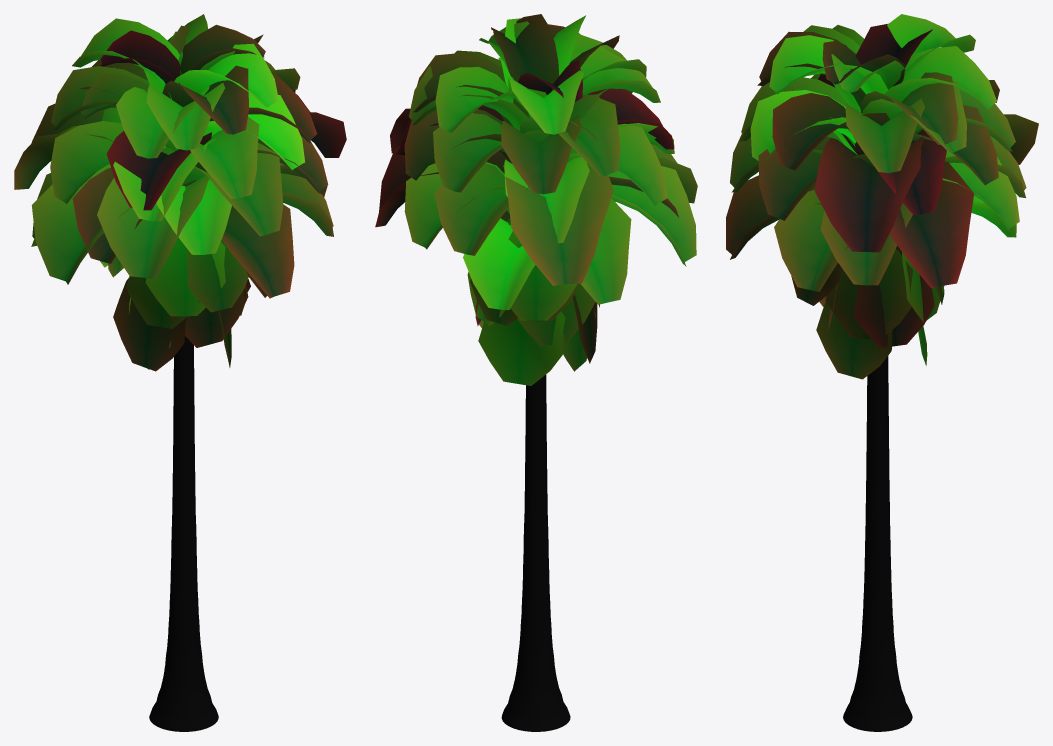
The model's file is palm_ns4.glb.
3 views of the same model, side by side, from view 1: azimuth 30°, elevation 25°; view 2: azimuth 150°, elevation 25°; view 3: azimuth 270°, elevation 25° (orthographic).
Visible parts, largest first — view 1: Tree_1; view 2: Tree_1; view 3: Tree_1.
Boxes of the visible parts, x1,y1,x2,y2 form: Tree_1: (14,14,346,731); Tree_1: (375,14,697,731); Tree_1: (726,14,1038,731).
Size of the model in its own units: 709 by 1594 by 660.
